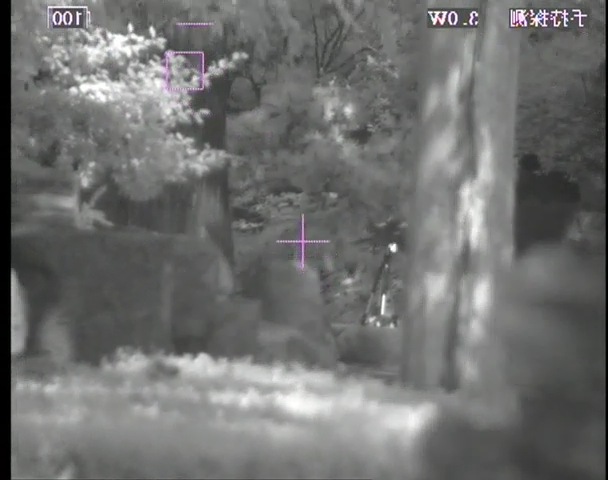my: (387, 242, 396, 254)
